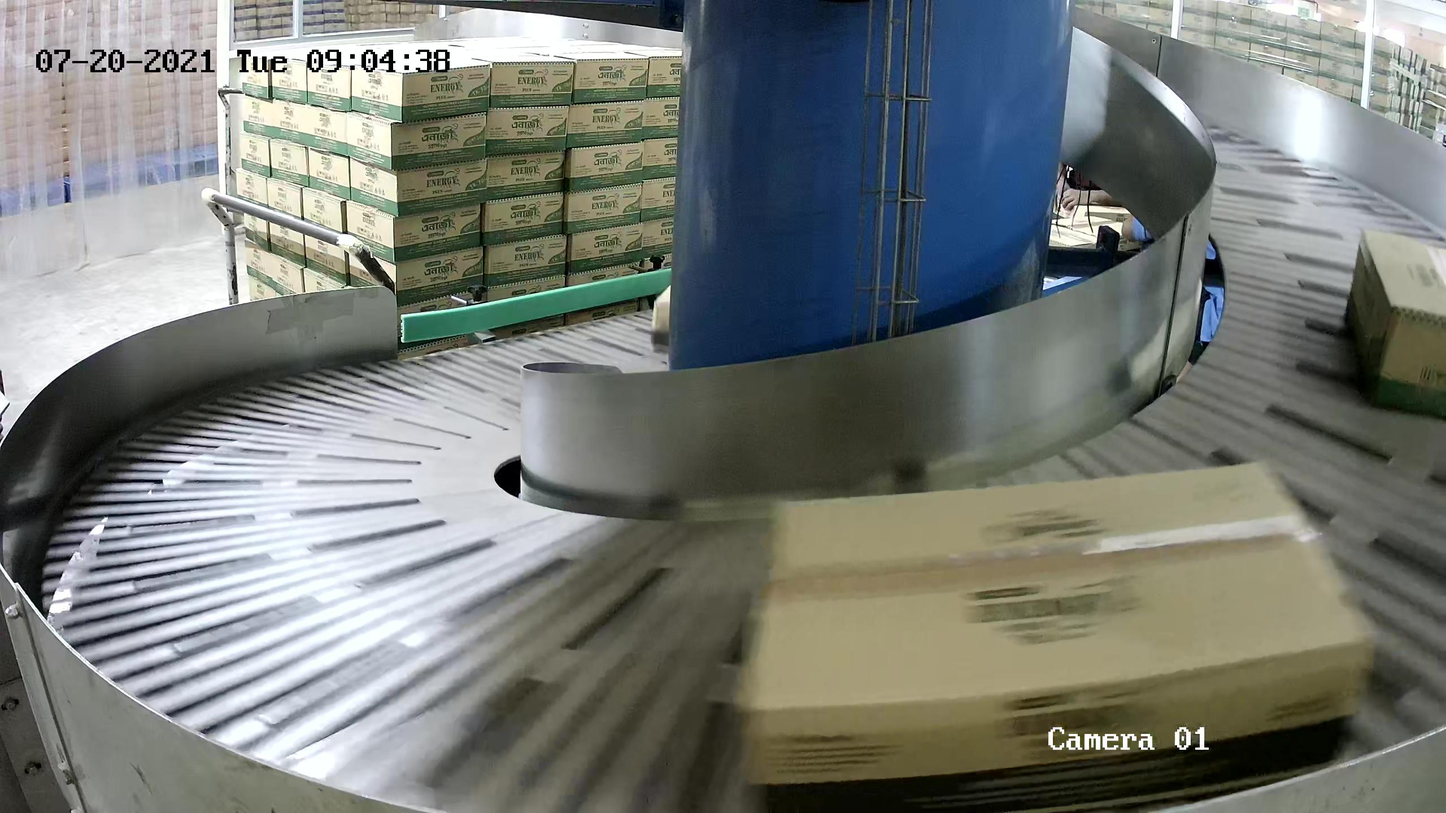Box: (738, 457, 1376, 813), (1334, 220, 1446, 418)
